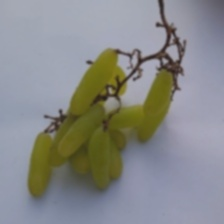grapes: (27, 36, 170, 224)
